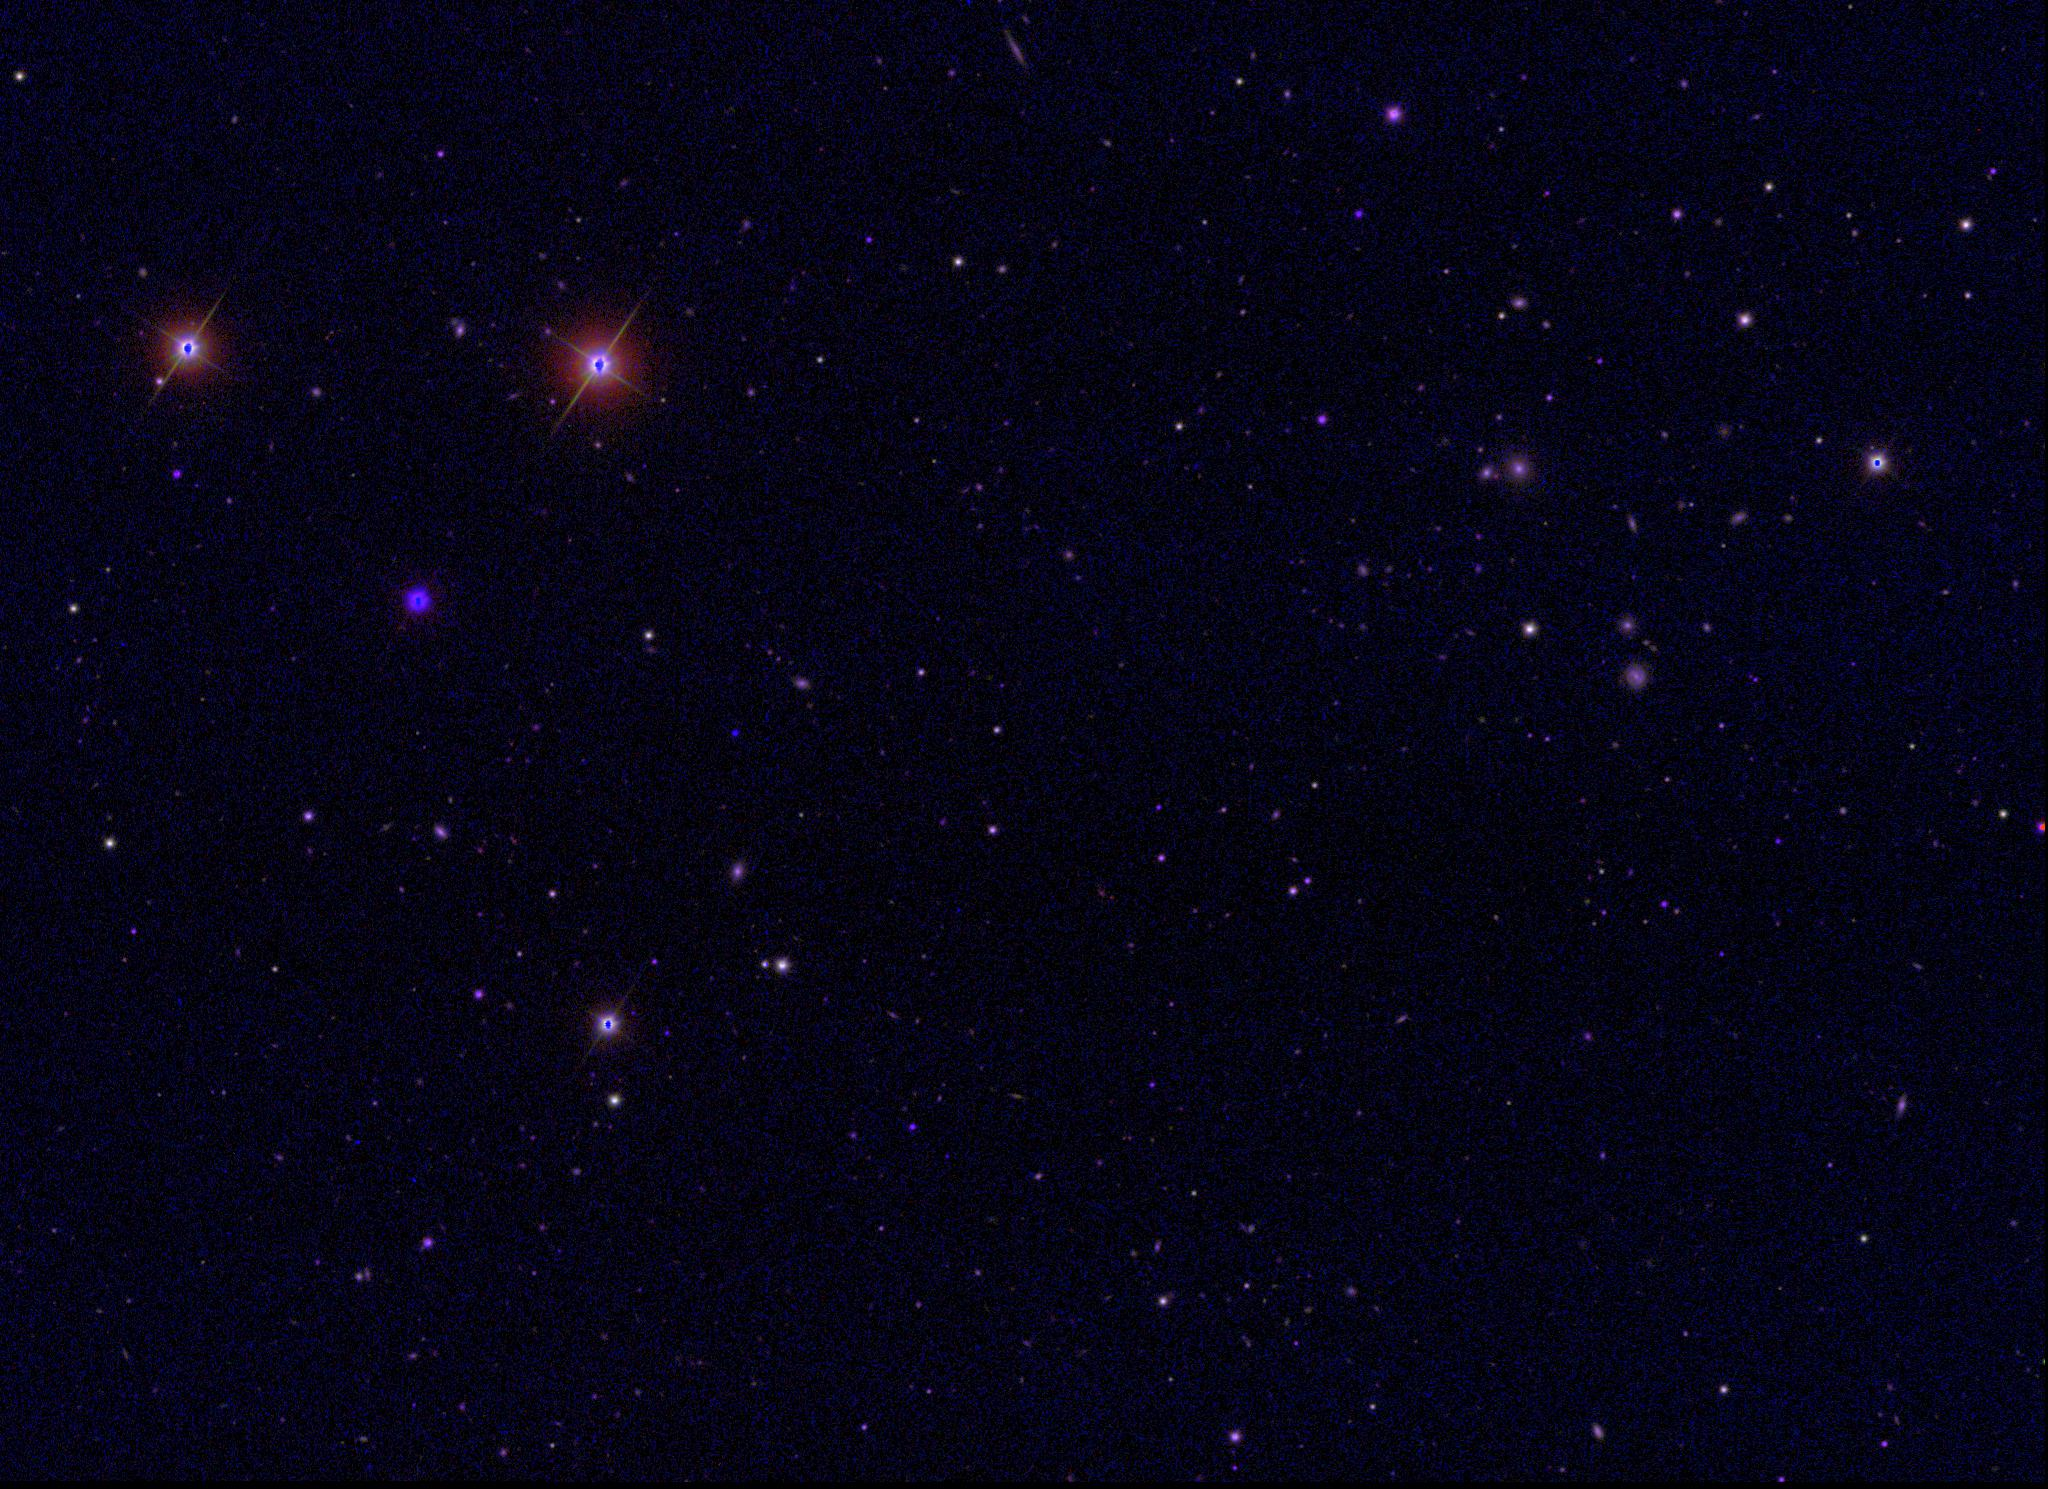L: (728, 725, 743, 740)
